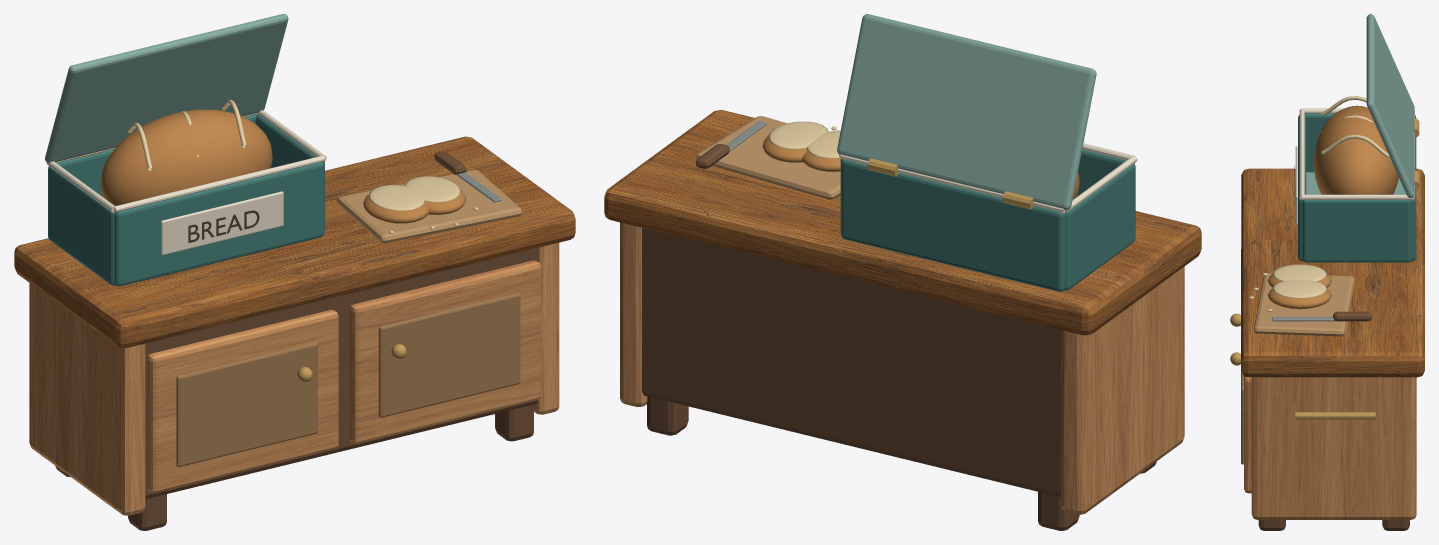
3 views of the same model, side by side, from view 1: azimuth 30°, elevation 25°; view 2: azimuth 150°, elevation 25°; view 3: azimuth 270°, elevation 25° (orthographic). The views are drawn at different scales.
Visible parts, largest first — view 1: workshop_oak, workshop_bench, workshop_wood, workshop_teal, workshop_teal_light, workshop_bread_crust, workshop_wood_dark, workshop_cream, workshop_wood_edge, workshop_bread_crumb, workshop_ink; view 2: workshop_wood_dark, workshop_bench, workshop_teal_light, workshop_oak, workshop_teal, workshop_wood_edge, workshop_bread_crumb, workshop_cream, workshop_bread_crust, workshop_brass; view 3: workshop_oak, workshop_bench, workshop_teal, workshop_bread_crust, workshop_teal_light, workshop_wood_edge, workshop_bread_crumb, workshop_cream, workshop_brass, workshop_wood_dark, workshop_wood, workshop_steel_light.
Boxes of the visible parts, x1,y1,x2,y2 form: workshop_oak: (29,242,559,515); workshop_bench: (14,136,575,348); workshop_wood: (176,293,520,466); workshop_teal: (48,114,324,286); workshop_teal_light: (45,14,288,162); workshop_bread_crust: (100,109,466,223); workshop_wood_dark: (55,151,538,530); workshop_cream: (46,110,326,255); workshop_wood_edge: (337,170,522,243); workshop_bread_crumb: (127,99,478,233); workshop_ink: (188,210,259,242); workshop_wood_dark: (642,144,1156,530); workshop_bench: (604,110,1201,335); workshop_teal_light: (837,14,1096,209); workshop_oak: (620,222,1184,514); workshop_teal: (840,149,1135,291); workshop_wood_edge: (696,116,840,199); workshop_bread_crumb: (768,121,840,158); workshop_cream: (839,143,1137,213); workshop_bread_crust: (762,135,1079,199); workshop_brass: (867,158,1033,209); workshop_oak: (1244,376,1416,519); workshop_bench: (1241,168,1424,377); workshop_teal: (1298,113,1416,262); workshop_bread_crust: (1268,105,1398,309); workshop_teal_light: (1306,14,1414,197); workshop_wood_edge: (1253,273,1354,336); workshop_bread_crumb: (1249,96,1389,311); workshop_cream: (1295,108,1414,224); workshop_brass: (1230,118,1419,419); workshop_wood_dark: (1258,311,1409,530); workshop_wood: (1241,249,1243,464); workshop_steel_light: (1272,317,1335,321).
Bounding box in the file's own units: 1.97 × 1.71 × 0.849.
13 materials, 2 textured.
